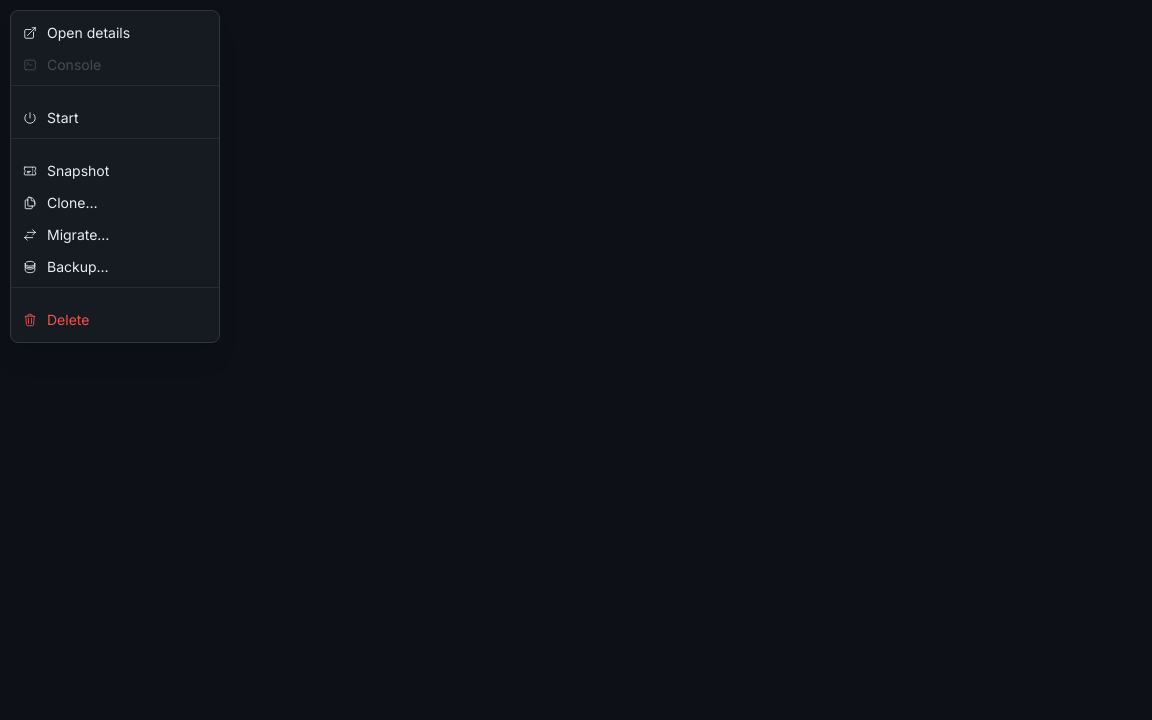
Test case: ResourceContextMenu dialogs (StrictMode=true) › VM snapshot prompt opens its dialog
Click the menu item "Snapshot".
click(115, 171)  # box [11,155,219,187]
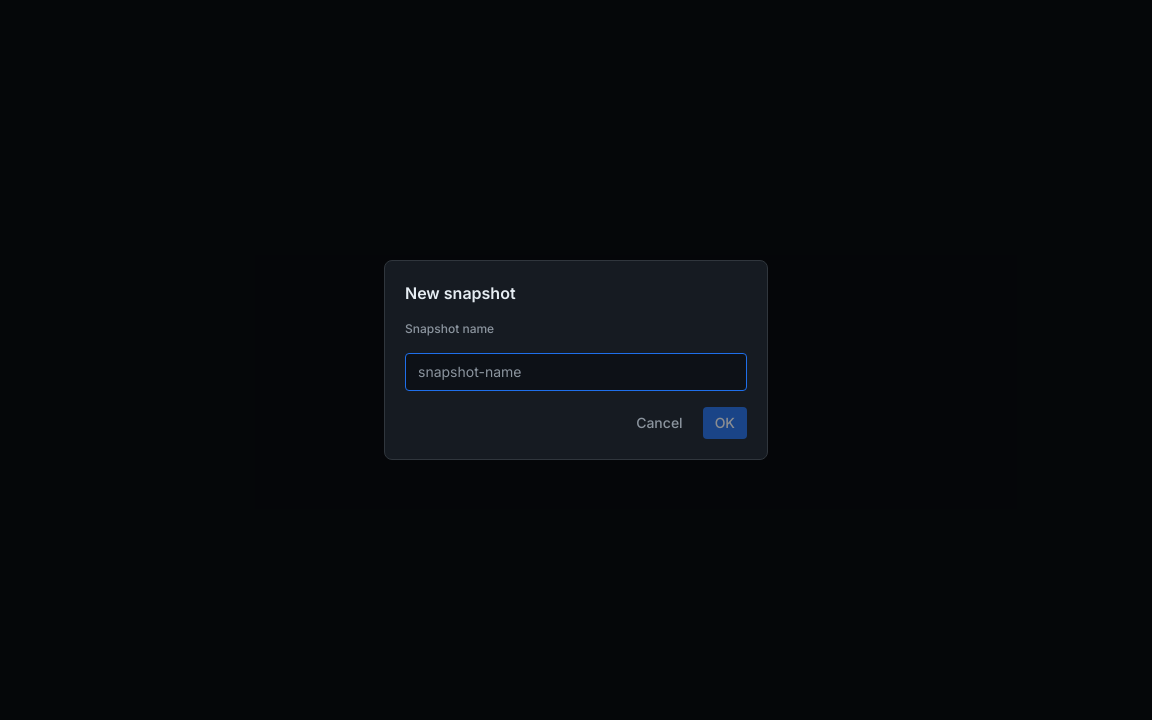
Expected: the heading "New snapshot" is shown, [405,283,516,303]
